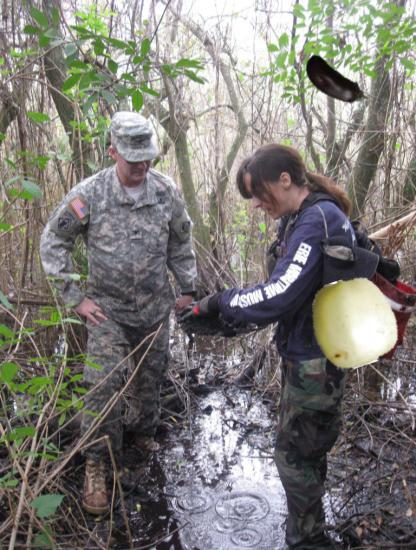Apple: (309, 278, 398, 367)
Eggplant: (298, 47, 371, 120)
